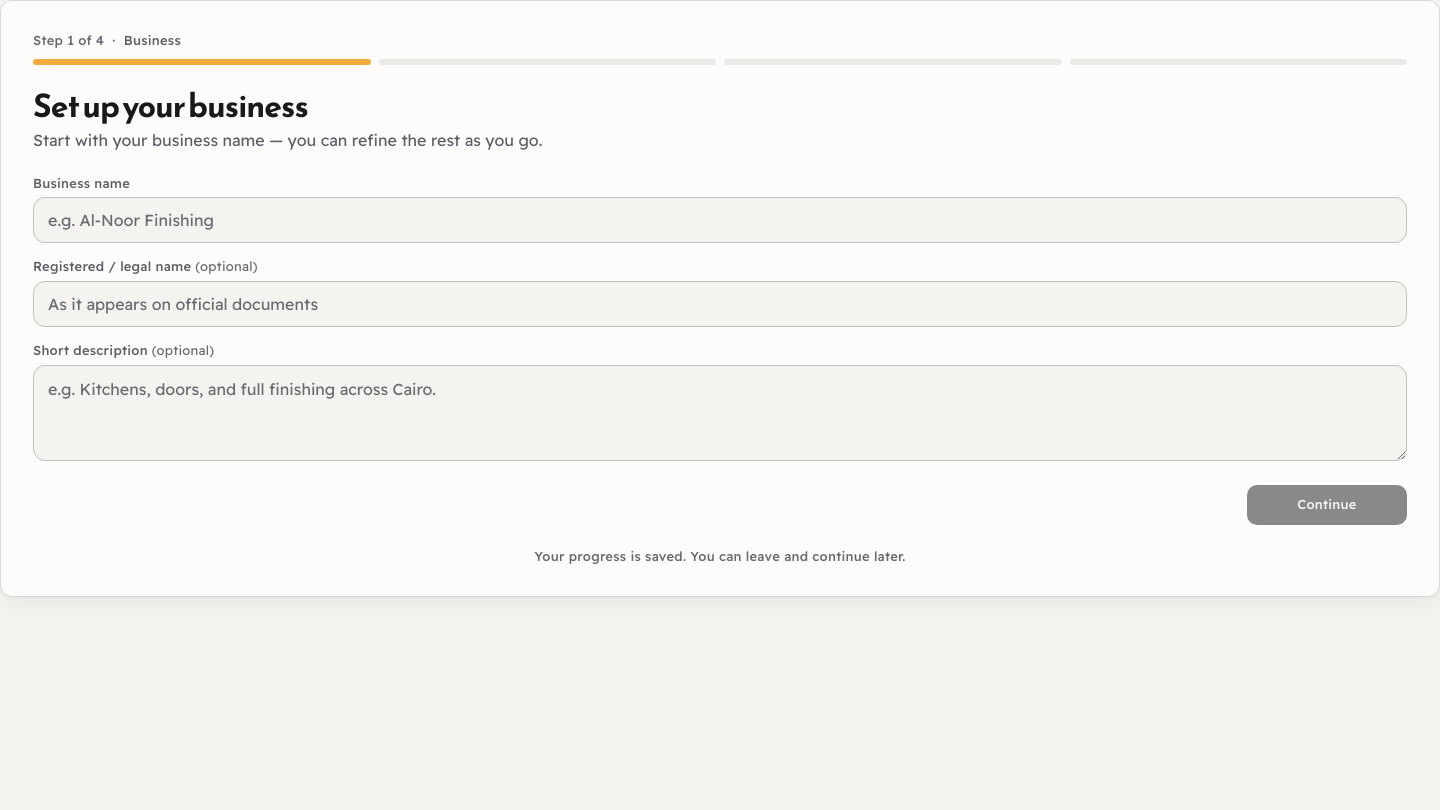
it: BusinessFlow — acceptance gates › never asks for the business type when it was chosen at registration
The width and height of the screenshot is (1440, 810).
Type "Cairo Ceramics" into the field labelled "Business name".
click(720, 220); type("Cairo Ceramics")  # box [33,197,1407,243]
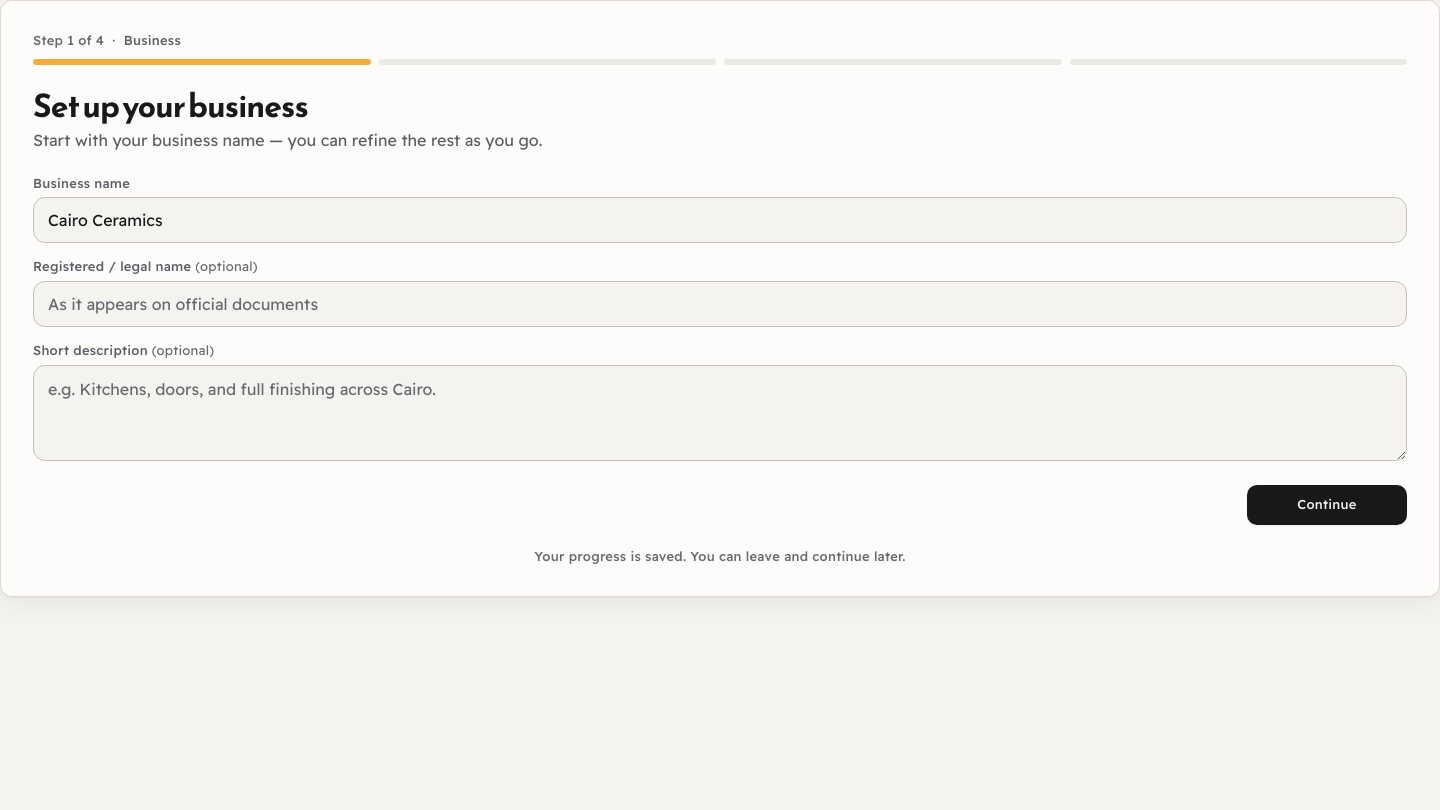
Click the button "Continue".
click(1327, 505)  # box [1247,485,1407,525]
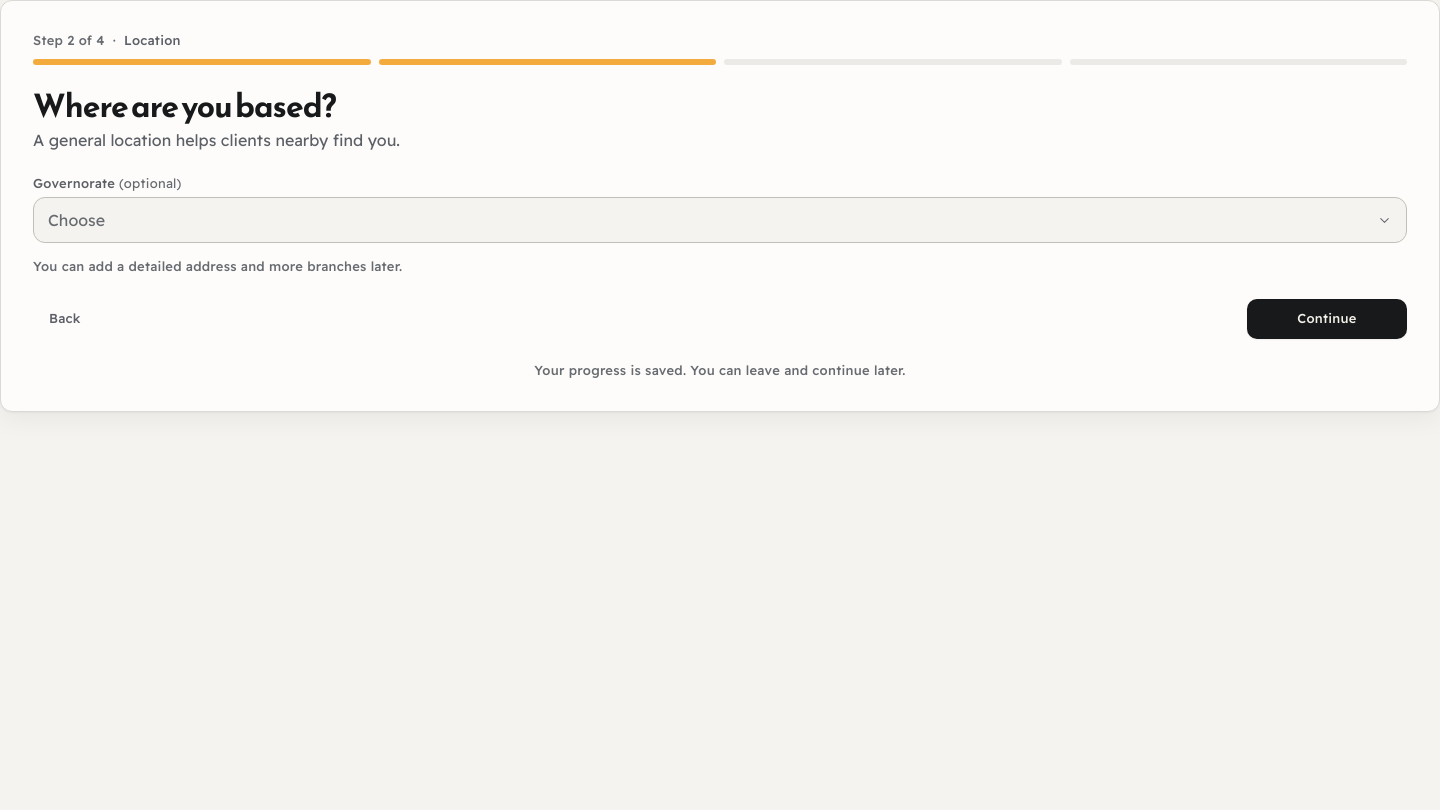
Now the heading "Where are you based?" is shown, box [33,82,336,130]
